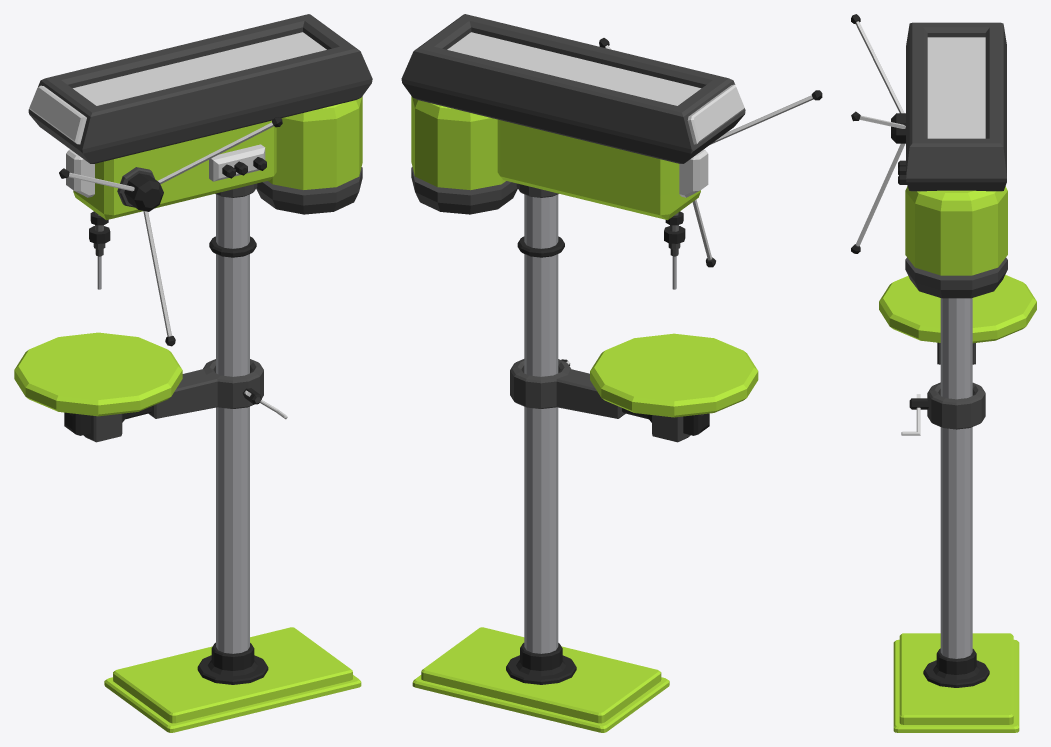
Rendered from tableDrill.fbx.
3 renders of one model, left to right at view 1: azimuth 30°, elevation 25°; view 2: azimuth 150°, elevation 25°; view 3: azimuth 270°, elevation 25°, orthographic. The views are drawn at different scales.
Visible parts, largest first — view 1: TableDrill_01, TableDrill_02, TableDrill_03, TableDrill_04; view 2: TableDrill_01, TableDrill_02, TableDrill_03, TableDrill_04; view 3: TableDrill_01, TableDrill_02, TableDrill_03.
Part boxes in pixels (box(x1,y1,x2,y2)): TableDrill_01: box(28, 14, 372, 732); TableDrill_02: box(14, 332, 287, 442); TableDrill_03: box(59, 117, 282, 346); TableDrill_04: box(89, 211, 110, 289); TableDrill_01: box(401, 14, 745, 732); TableDrill_02: box(510, 333, 758, 442); TableDrill_03: box(599, 38, 822, 267); TableDrill_04: box(664, 211, 685, 289); TableDrill_01: box(893, 22, 1019, 732); TableDrill_02: box(879, 275, 1036, 435); TableDrill_03: box(851, 14, 905, 253).
Bounding box in the file's own units: 97.68 × 169 × 48.13.
